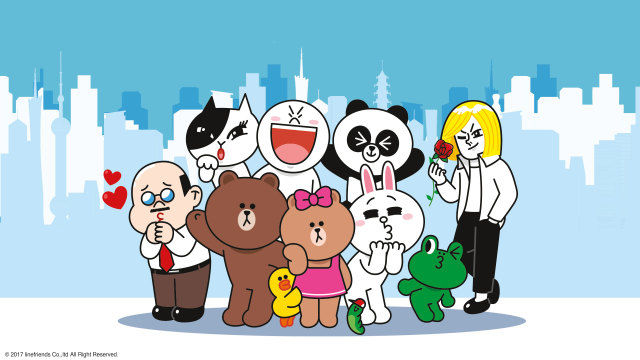line_brown: (203, 166, 295, 252)
